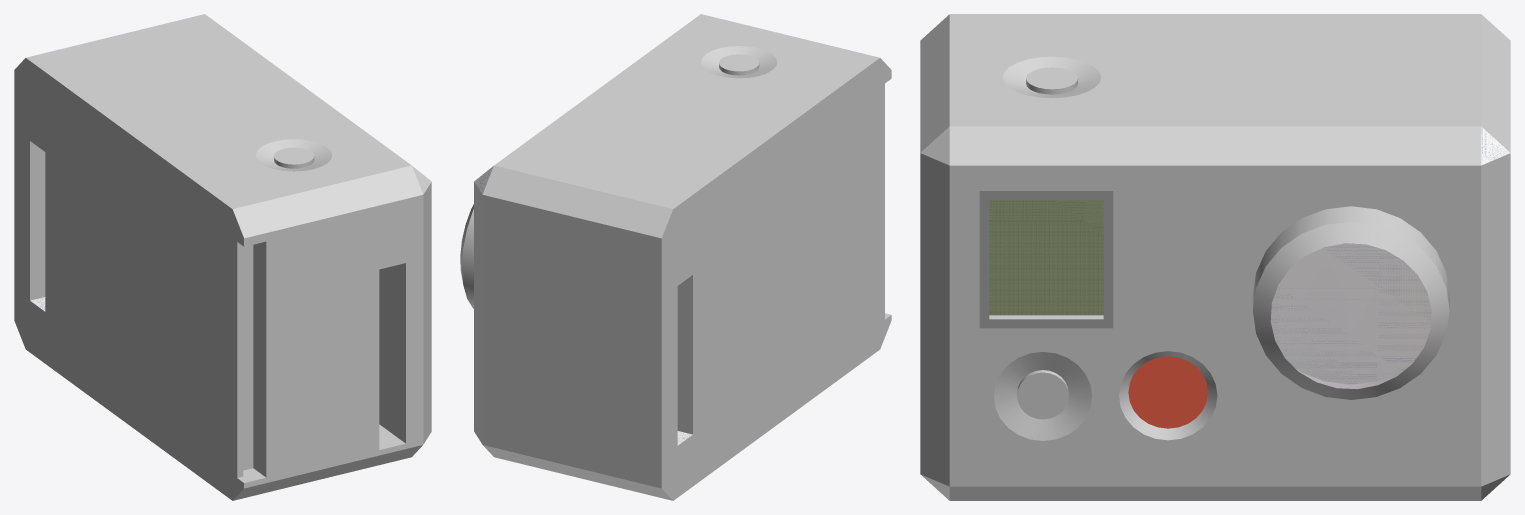
Rendered from camera.dae.
3 views of the same model, side by side, from view 1: azimuth 30°, elevation 25°; view 2: azimuth 150°, elevation 25°; view 3: azimuth 270°, elevation 25° (orthographic). The views are drawn at different scales.
Parts seen in each view (by area): view 1: SketchUp (×3), GoPro_Button; view 2: SketchUp (×3), GoPro_Button; view 3: SketchUp (×8), GoPro_Button (×2).
Part boxes in pixels (<box>): SketchUp (×3): <box>14,14,431,500</box>; GoPro_Button: <box>255,139,332,171</box>; SketchUp (×3): <box>460,14,891,500</box>; GoPro_Button: <box>701,46,777,78</box>; SketchUp (×8): <box>920,14,1510,500</box>; GoPro_Button (×2): <box>993,56,1101,440</box>.
Bounding box in the file's own units: 1.38 × 2.36 × 1.65.
